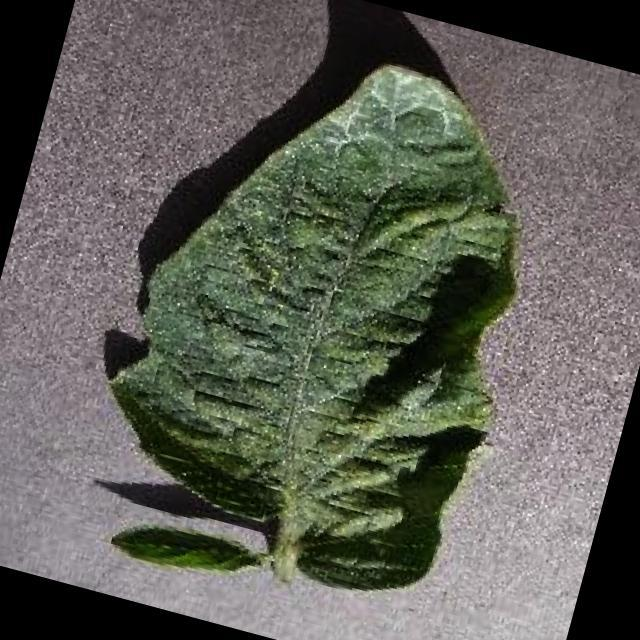Tomato spider mites leaf: (76, 11, 574, 614)
